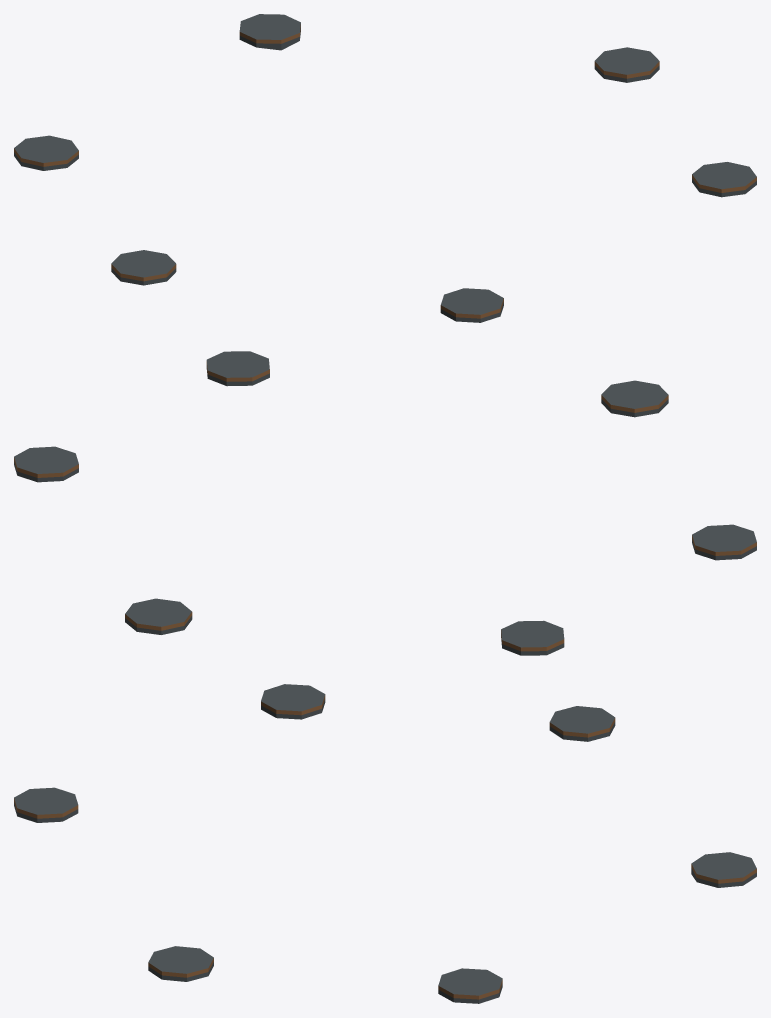
File: west-zip-deck-shoes.glb
The picture shows the model from 3 angles, top to bottom: view 1: azimuth 30°, elevation 25°; view 2: azimuth 150°, elevation 25°; view 3: azimuth 270°, elevation 25°; orthographic projection. The views are drawn at different scales.
Visible parts, largest first — view 1: Deck shoe 02, Deck shoe 01, Deck shoe 04, Deck shoe 03, Deck shoe 06, Deck shoe 05; view 2: Deck shoe 05, Deck shoe 02, Deck shoe 01, Deck shoe 04, Deck shoe 03, Deck shoe 06; view 3: Deck shoe 03, Deck shoe 02, Deck shoe 01, Deck shoe 06, Deck shoe 05, Deck shoe 04.
Boxes of the visible parts, x1=… form: Deck shoe 02: x1=239, y1=14, x2=300, y2=50; Deck shoe 01: x1=594, y1=47, x2=659, y2=82; Deck shoe 04: x1=111, y1=250, x2=176, y2=285; Deck shoe 03: x1=14, y1=135, x2=78, y2=170; Deck shoe 06: x1=692, y1=162, x2=756, y2=197; Deck shoe 05: x1=440, y1=288, x2=503, y2=322; Deck shoe 05: x1=601, y1=380, x2=668, y2=417; Deck shoe 02: x1=125, y1=598, x2=192, y2=634; Deck shoe 01: x1=14, y1=446, x2=78, y2=482; Deck shoe 04: x1=692, y1=524, x2=756, y2=560; Deck shoe 03: x1=501, y1=620, x2=564, y2=655; Deck shoe 06: x1=206, y1=351, x2=269, y2=386; Deck shoe 03: x1=549, y1=706, x2=615, y2=741; Deck shoe 02: x1=691, y1=852, x2=756, y2=887; Deck shoe 01: x1=438, y1=968, x2=502, y2=1003; Deck shoe 06: x1=148, y1=946, x2=213, y2=981; Deck shoe 05: x1=14, y1=787, x2=78, y2=822; Deck shoe 04: x1=261, y1=684, x2=325, y2=719.
Bounding box in the file's own units: 2.56 × 0.041 × 2.58.
